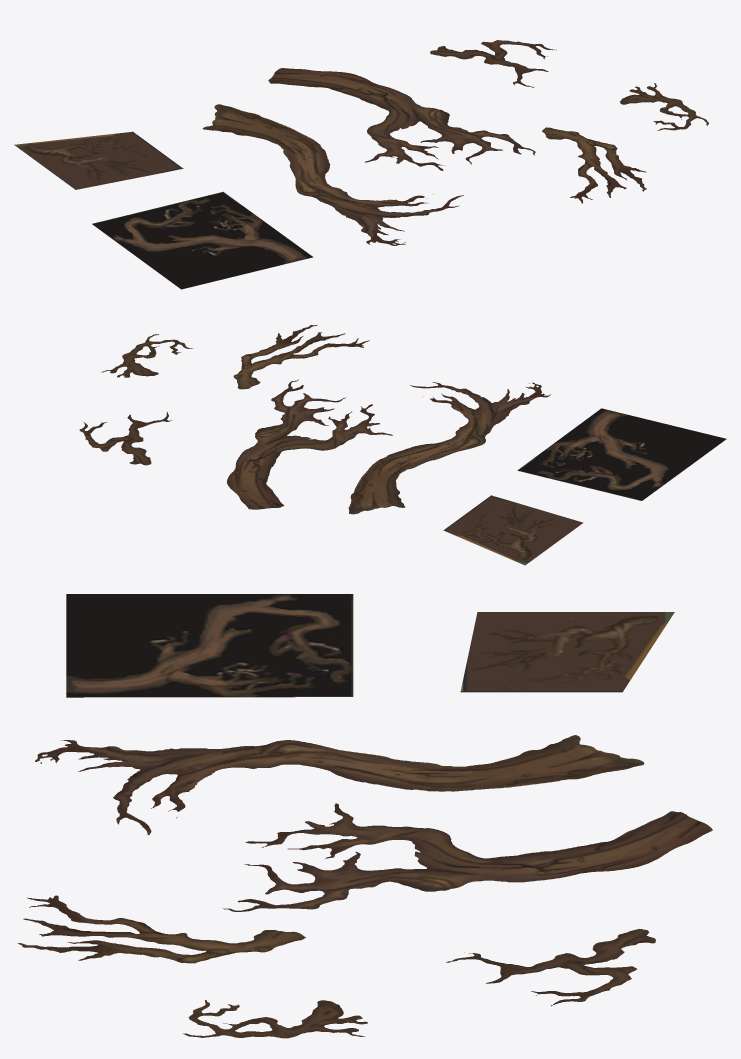
The model's file is 2_Misc_ShuGenPian_01.FBX.
3 views of the same model, one above another, from view 1: azimuth 30°, elevation 25°; view 2: azimuth 150°, elevation 25°; view 3: azimuth 270°, elevation 25° (orthographic). The views are drawn at different scales.
Visible parts, largest first — view 1: 2_Misc_ShuGenPian_01_01, 2_Misc_ShuGenPian_01_03, 2_Misc_ShuGenPian_01_04, 2_Misc_ShuGenPian_01_02, 2_Misc_ShuGenPian_01_05, 2_Misc_ShuGenPian_01_06, 2_Misc_ShuGenPian_01_07; view 2: 2_Misc_ShuGenPian_01_01, 2_Misc_ShuGenPian_01_03, 2_Misc_ShuGenPian_01_04, 2_Misc_ShuGenPian_01_02, 2_Misc_ShuGenPian_01_05, 2_Misc_ShuGenPian_01_06, 2_Misc_ShuGenPian_01_07; view 3: 2_Misc_ShuGenPian_01_01, 2_Misc_ShuGenPian_01_03, 2_Misc_ShuGenPian_01_04, 2_Misc_ShuGenPian_01_02, 2_Misc_ShuGenPian_01_05, 2_Misc_ShuGenPian_01_06, 2_Misc_ShuGenPian_01_07.
Boxes of the visible parts, x1,y1,x2,y2 form: 2_Misc_ShuGenPian_01_01: (92, 191, 313, 289); 2_Misc_ShuGenPian_01_03: (202, 104, 463, 245); 2_Misc_ShuGenPian_01_04: (268, 68, 535, 170); 2_Misc_ShuGenPian_01_02: (14, 131, 183, 189); 2_Misc_ShuGenPian_01_05: (542, 127, 646, 203); 2_Misc_ShuGenPian_01_06: (430, 40, 556, 87); 2_Misc_ShuGenPian_01_07: (620, 83, 708, 130); 2_Misc_ShuGenPian_01_01: (517, 408, 726, 500); 2_Misc_ShuGenPian_01_03: (348, 382, 550, 514); 2_Misc_ShuGenPian_01_04: (227, 379, 392, 509); 2_Misc_ShuGenPian_01_02: (443, 495, 583, 565); 2_Misc_ShuGenPian_01_05: (233, 325, 369, 389); 2_Misc_ShuGenPian_01_06: (79, 412, 171, 465); 2_Misc_ShuGenPian_01_07: (101, 334, 192, 377); 2_Misc_ShuGenPian_01_01: (66, 594, 353, 697); 2_Misc_ShuGenPian_01_03: (35, 735, 644, 834); 2_Misc_ShuGenPian_01_04: (223, 803, 712, 911); 2_Misc_ShuGenPian_01_02: (460, 612, 674, 692); 2_Misc_ShuGenPian_01_05: (17, 895, 305, 963); 2_Misc_ShuGenPian_01_06: (446, 929, 655, 1006); 2_Misc_ShuGenPian_01_07: (183, 1000, 367, 1038).
Size of the model in its own units: 800 by 1.36e-13 by 535.
